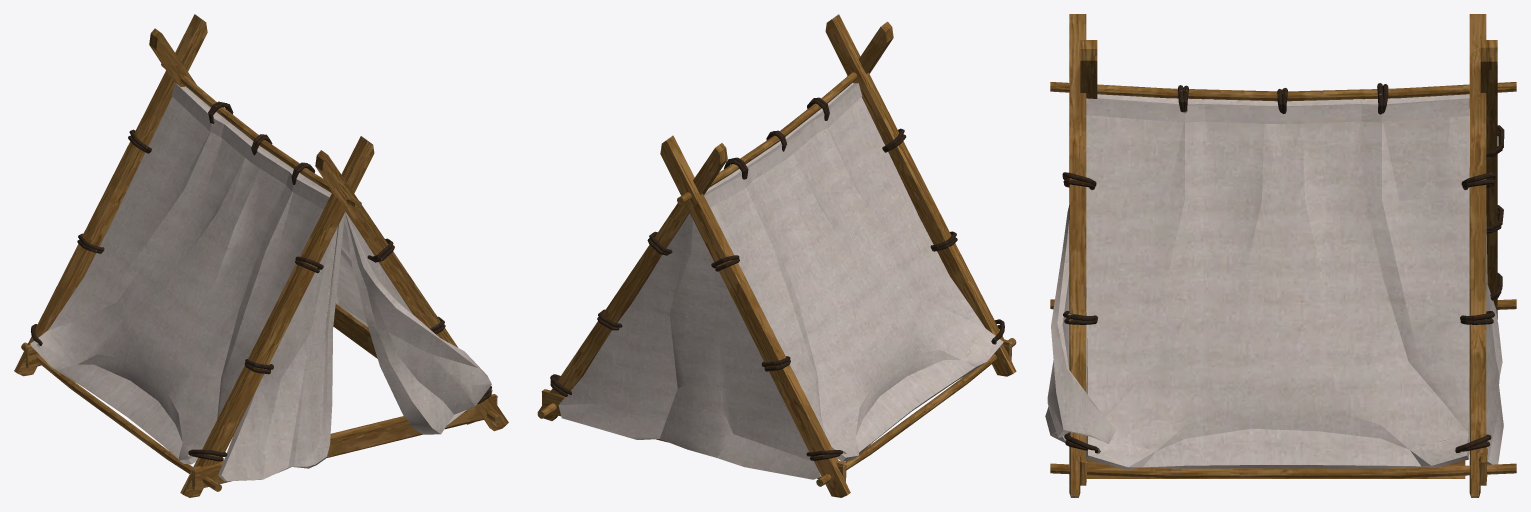
3 views of the same model, side by side, from view 1: azimuth 30°, elevation 25°; view 2: azimuth 150°, elevation 25°; view 3: azimuth 270°, elevation 25° (orthographic). The views are drawn at different scales.
Visible parts, largest first — view 1: SM_Summon_Tent_01_LOD0; view 2: SM_Summon_Tent_01_LOD0; view 3: SM_Summon_Tent_01_LOD0.
Boxes of the visible parts, x1,y1,x2,y2 form: SM_Summon_Tent_01_LOD0: (14, 14, 508, 497); SM_Summon_Tent_01_LOD0: (537, 14, 1016, 497); SM_Summon_Tent_01_LOD0: (1045, 14, 1516, 497).
Size of the model in its own units: 3.34 by 3.17 by 3.56.
1 material, 1 textured.
